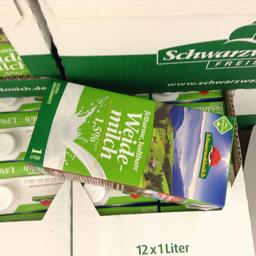milk: (16, 76, 241, 212)
